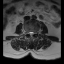CCS_normal: (30, 29, 32, 38)
LFS_stenosis: (34, 30, 36, 35)
LLS_normal: (32, 30, 34, 36)
RFS_normal: (26, 29, 28, 35)
RLS_normal: (28, 30, 30, 36)
